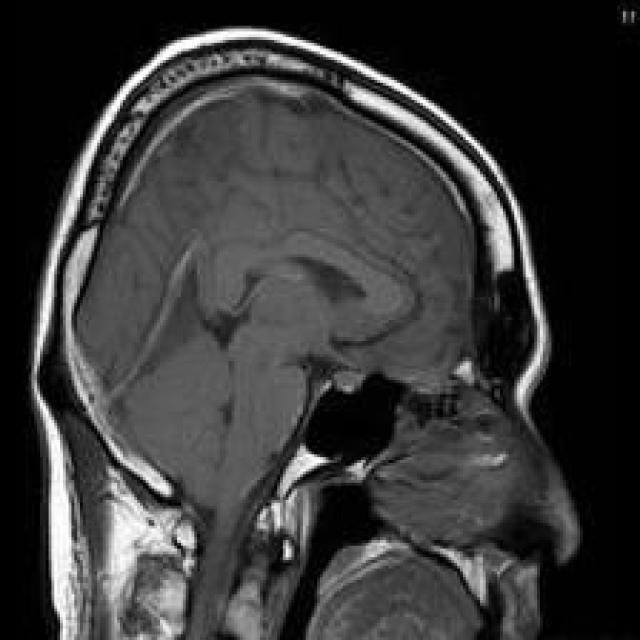no_tumor: (29, 28, 559, 640)
